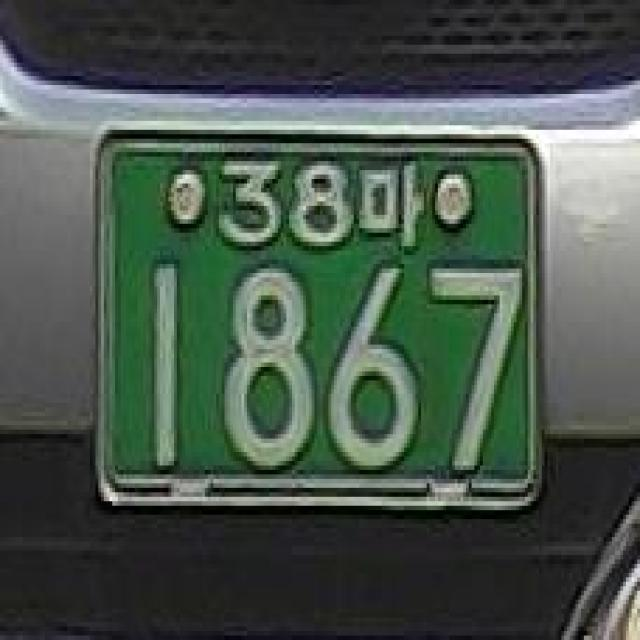illegal_plate: (74, 103, 568, 553)
